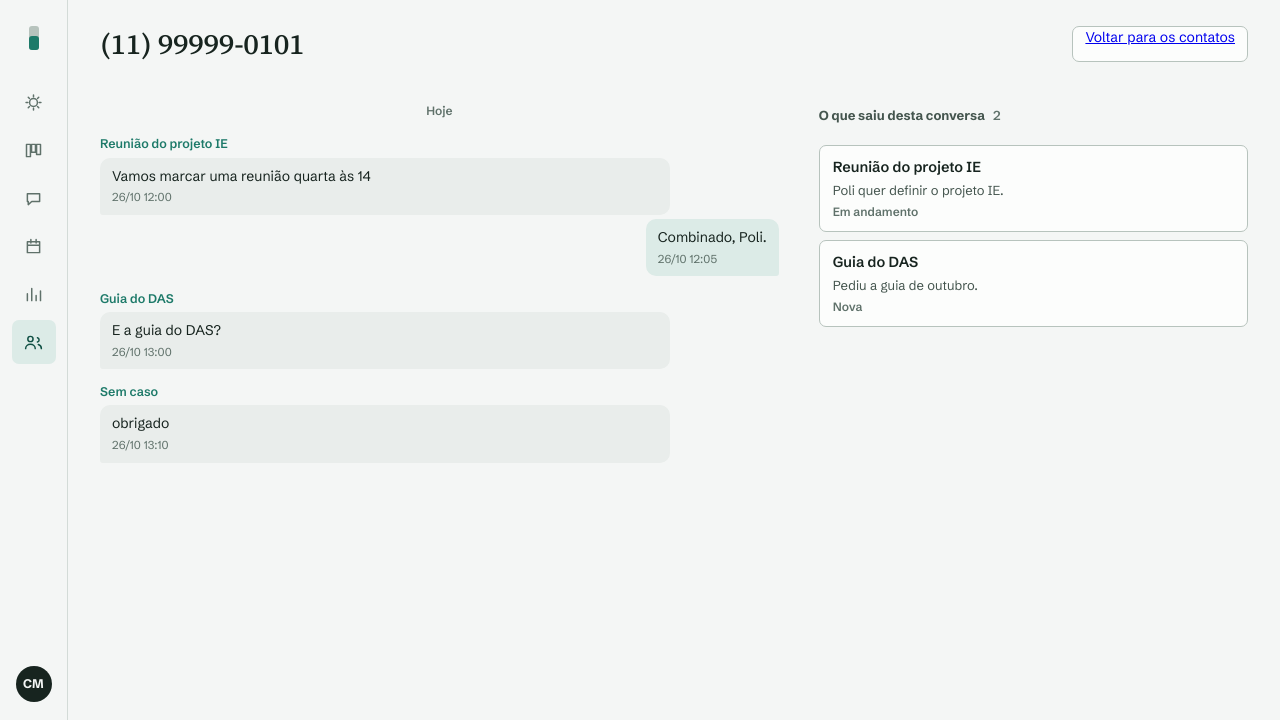
Test: conversation page › lists the cases with their summaries and opens one
The width and height of the screenshot is (1280, 720).
Expected: the text "Poli quer definir o projeto IE." is shown, top-left (833, 182), bottom-right (1004, 198)
Click the button "Reunião do projeto IE". click: [907, 167]
box: top-left (819, 145), bottom-right (1248, 232)
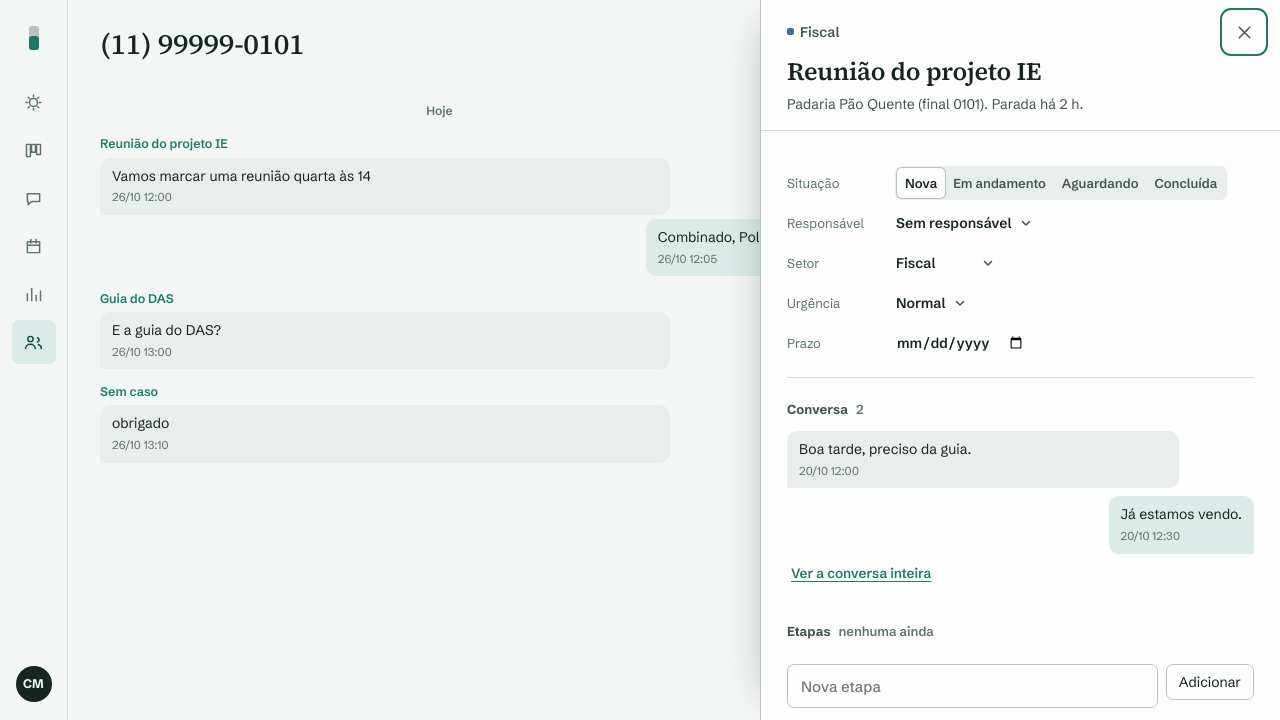
Expected: the dialog is shown, top-left (760, 0), bottom-right (1279, 719)
